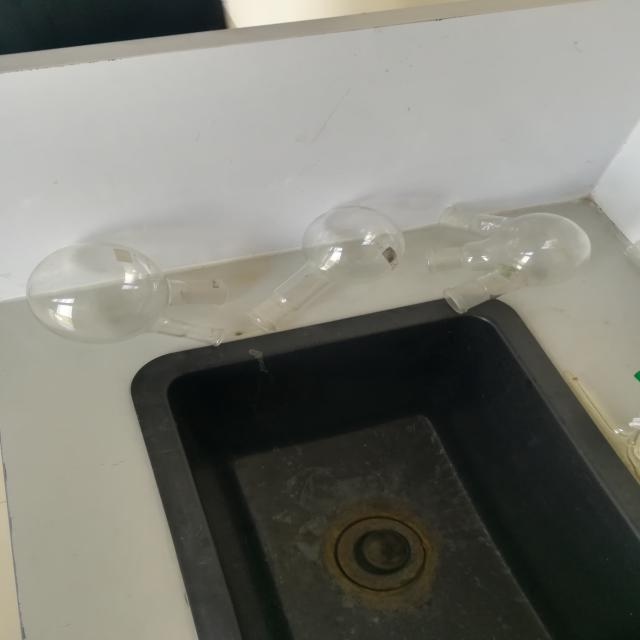Round_Bottom_Flask_Borosilicate_Glass_1_Neck: (256, 166, 422, 350)
Round_Bottom_Flask_Borosilicate_Glass_2_Neck: (0, 207, 258, 364)
Round_Bottom_Flask_Borosilicate_Glass_3_Neck: (409, 157, 624, 334)
